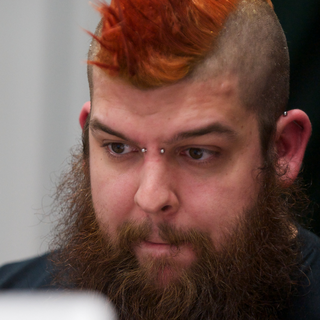eye: (174, 141, 223, 167), (97, 134, 143, 161)
